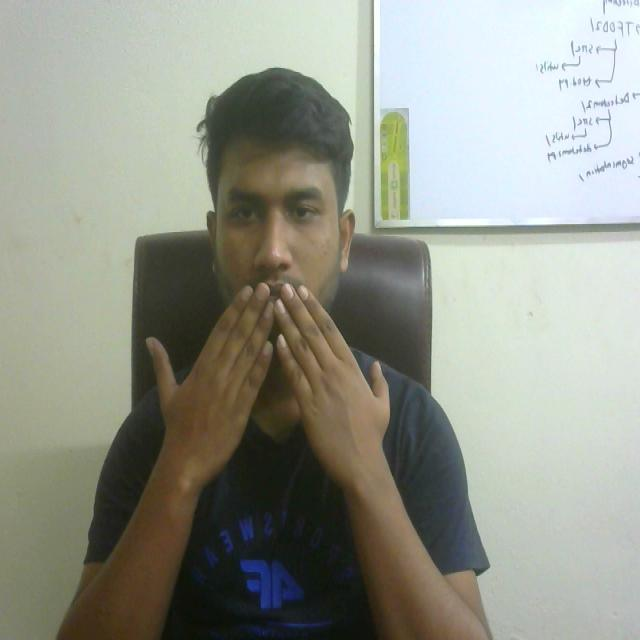Hello: (126, 265, 402, 495)
